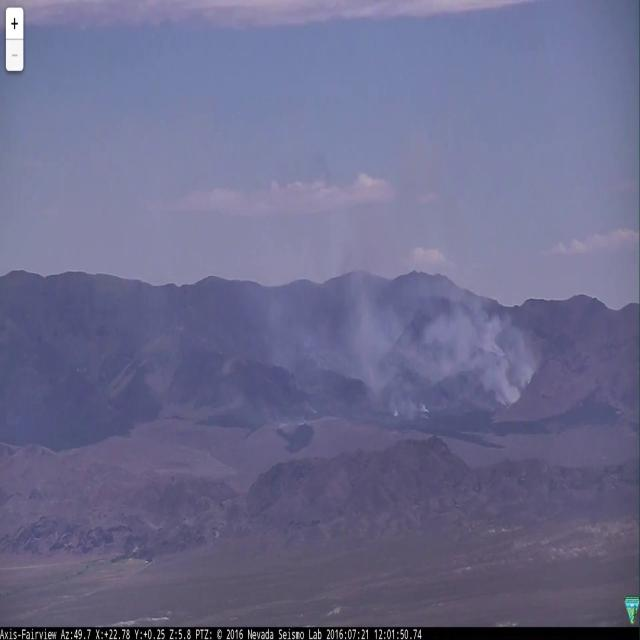smoke: (259, 137, 548, 420), (135, 250, 183, 410)
